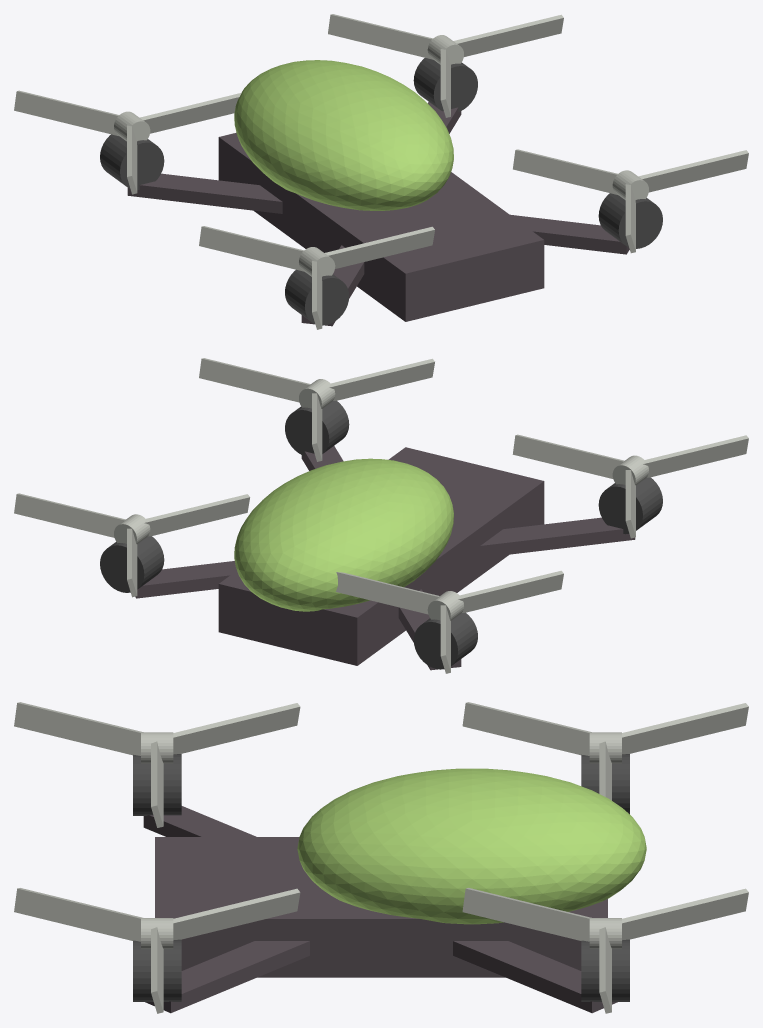
Rendered from Broadsword.glb.
The picture shows the model from 3 angles, top to bottom: view 1: azimuth 30°, elevation 25°; view 2: azimuth 150°, elevation 25°; view 3: azimuth 270°, elevation 25°; orthographic projection. The views are drawn at different scales.
Parts seen in each view (by area): view 1: canopy, frame_body, prop_2, prop_0, prop_1, prop_3, arm_3, arm_0, motor_2, motor_0, motor_1, motor_3 (+1 smaller); view 2: canopy, frame_body, prop_1, prop_0, prop_2, prop_3, arm_2, arm_1, motor_3, motor_1, motor_0, motor_2 (+2 smaller); view 3: canopy, frame_body, prop_2, prop_0, prop_1, prop_3, arm_1, arm_0, motor_0, motor_1, motor_2, arm_2 (+1 smaller).
Boxes of the visible parts, x1=… form: canopy: x1=234, y1=60, x2=453, y2=210; frame_body: x1=218, y1=132, x2=544, y2=321; prop_2: x1=199, y1=226, x2=434, y2=329; prop_0: x1=513, y1=149, x2=748, y2=253; prop_1: x1=328, y1=14, x2=563, y2=117; prop_3: x1=14, y1=90, x2=241, y2=194; arm_3: x1=127, y1=173, x2=282, y2=213; arm_0: x1=510, y1=214, x2=629, y2=254; motor_2: x1=285, y1=269, x2=349, y2=325; motor_0: x1=598, y1=193, x2=662, y2=248; motor_1: x1=413, y1=58, x2=477, y2=111; motor_3: x1=100, y1=134, x2=164, y2=190; canopy: x1=234, y1=458, x2=453, y2=611; frame_body: x1=218, y1=447, x2=544, y2=665; prop_1: x1=14, y1=493, x2=250, y2=597; prop_0: x1=199, y1=358, x2=434, y2=461; prop_2: x1=512, y1=434, x2=748, y2=538; prop_3: x1=336, y1=570, x2=563, y2=673; arm_2: x1=480, y1=517, x2=635, y2=557; arm_1: x1=135, y1=561, x2=236, y2=598; motor_3: x1=413, y1=612, x2=477, y2=669; motor_1: x1=100, y1=536, x2=164, y2=592; motor_0: x1=285, y1=401, x2=349, y2=455; motor_2: x1=598, y1=477, x2=662, y2=534; canopy: x1=297, y1=768, x2=646, y2=924; frame_body: x1=155, y1=837, x2=607, y2=977; prop_2: x1=14, y1=702, x2=300, y2=827; prop_0: x1=14, y1=888, x2=300, y2=1013; prop_1: x1=462, y1=888, x2=748, y2=1013; prop_3: x1=462, y1=702, x2=748, y2=800; arm_1: x1=453, y1=941, x2=617, y2=1013; arm_0: x1=145, y1=941, x2=309, y2=1013; motor_0: x1=133, y1=939, x2=181, y2=1001; motor_1: x1=581, y1=939, x2=629, y2=1001; motor_2: x1=133, y1=754, x2=181, y2=815; arm_2: x1=143, y1=806, x2=256, y2=836.
Size of the model in its own units: 0.2125 by 0.0516 by 0.2271.
